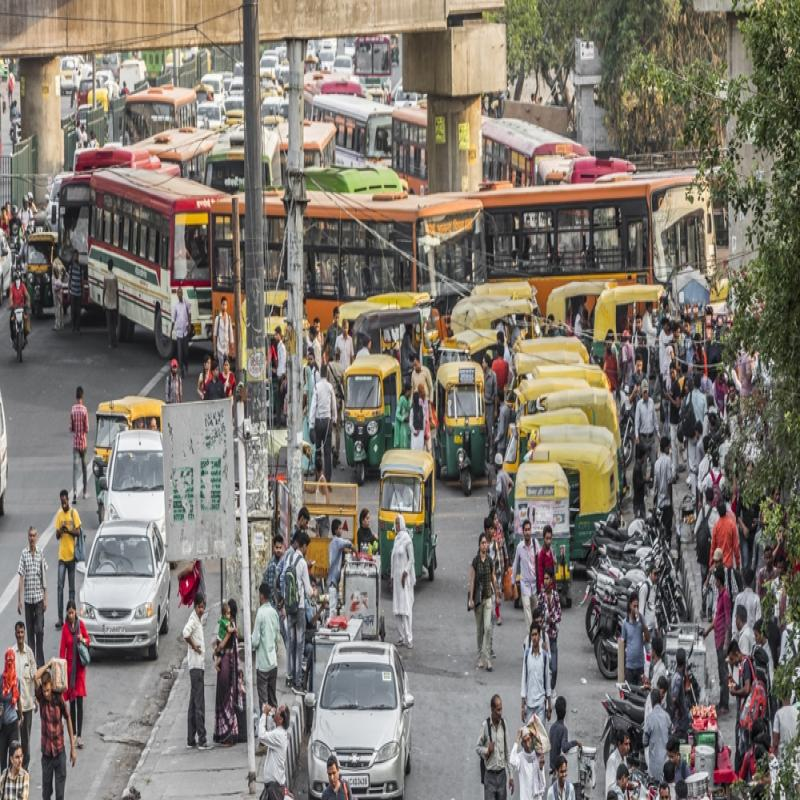auto: (371, 442, 442, 568), (595, 264, 665, 379), (436, 362, 493, 488), (514, 468, 579, 577), (341, 360, 400, 480), (451, 286, 541, 360), (544, 264, 610, 349), (98, 399, 163, 452), (500, 417, 525, 523)
bike: (588, 611, 672, 681), (15, 292, 38, 368)
bus: (225, 200, 486, 358), (478, 182, 660, 319), (88, 170, 219, 354), (118, 73, 197, 153), (310, 91, 395, 161)
car: (312, 628, 410, 800), (80, 508, 169, 656)
